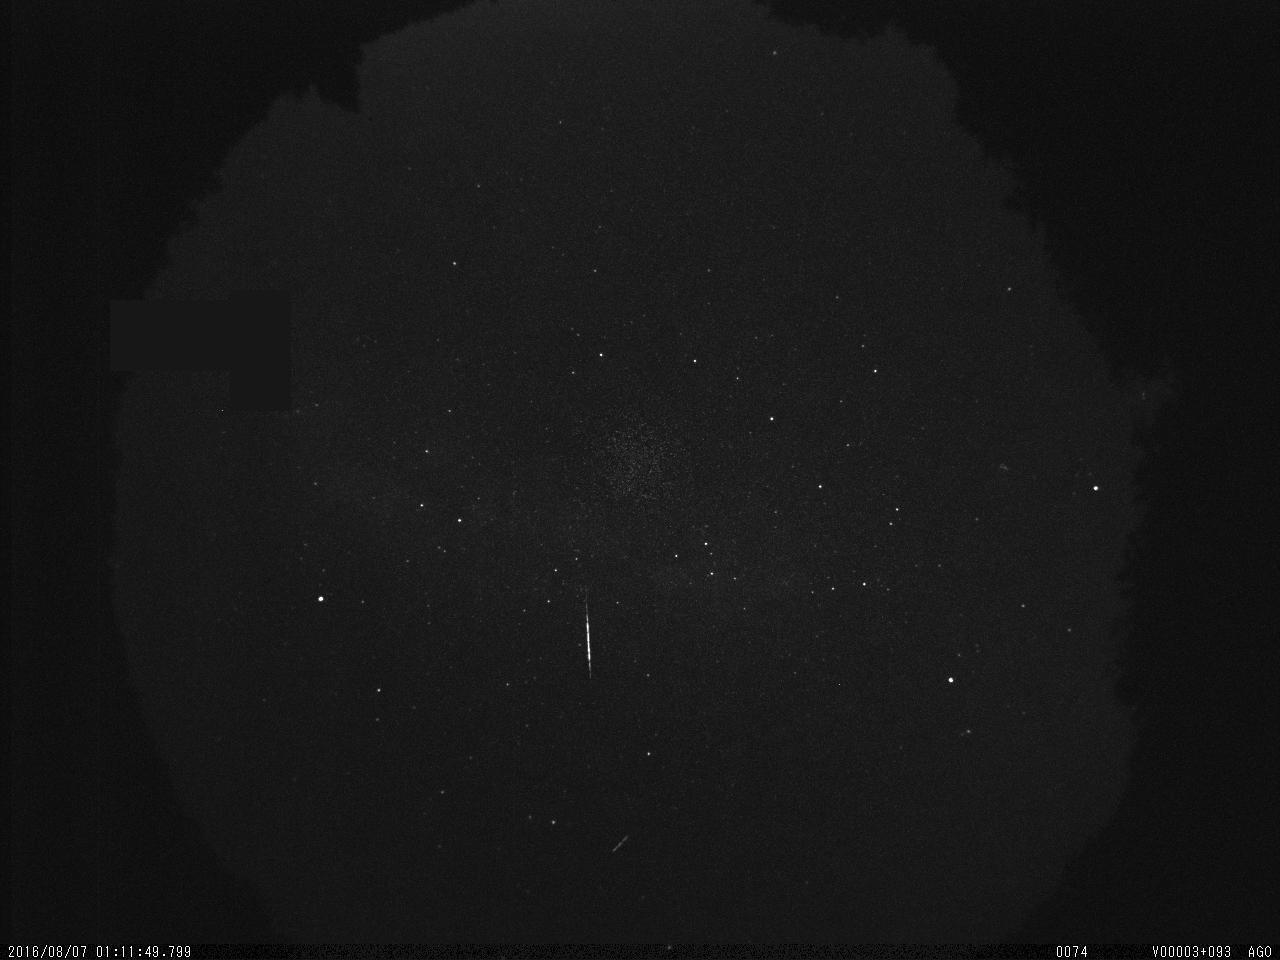Meteor: (578, 594, 601, 691)
